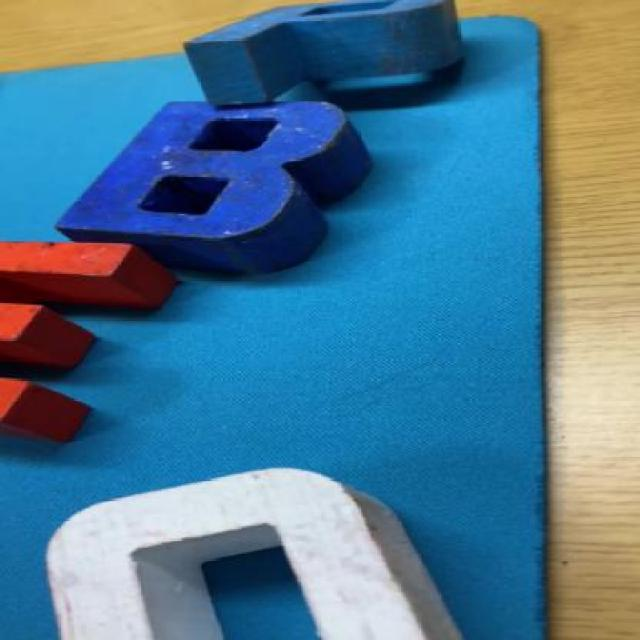B: (95, 101, 382, 279)
P: (198, 2, 472, 66)
